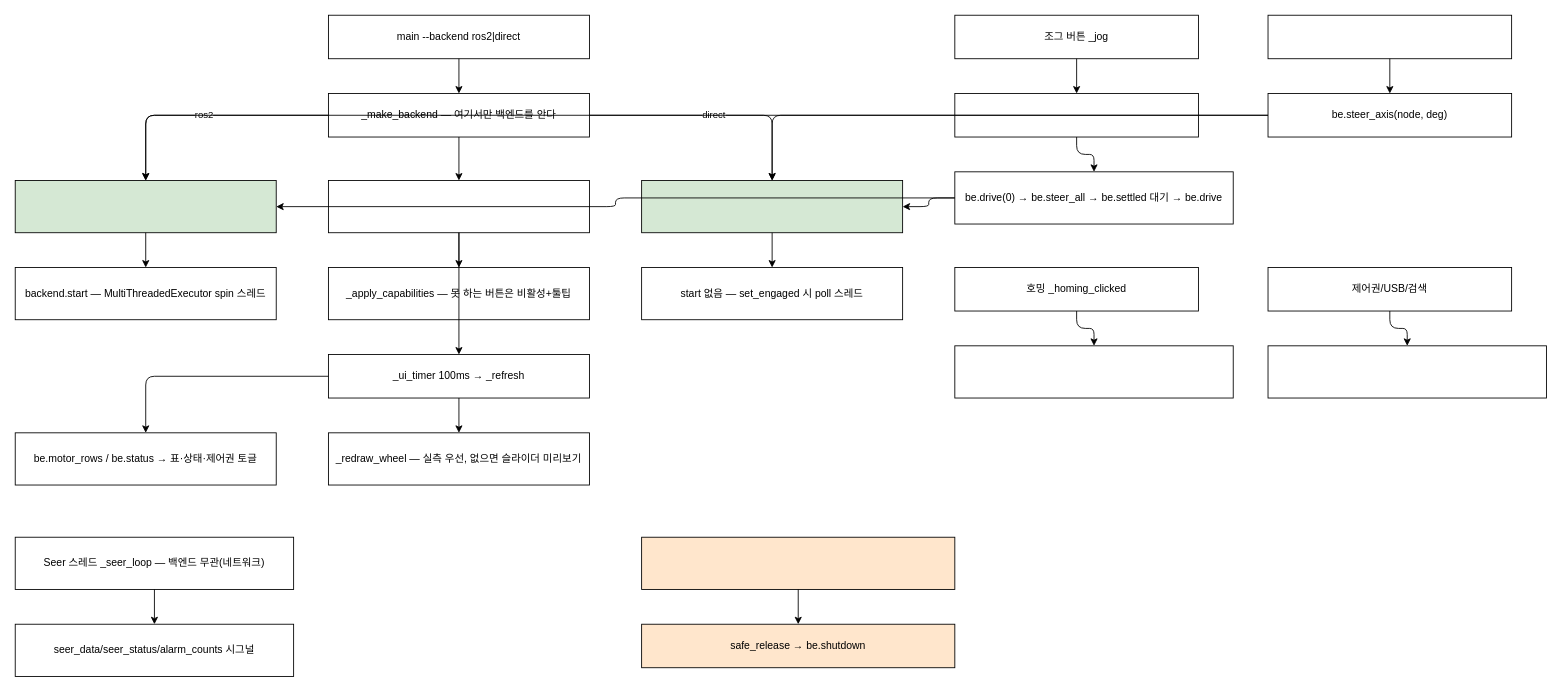
Some shapes in this 1562 by 692 pixel diagram are drawn without their labels. The centre of each missing label's shape, as x and y in pixels:
"_run_op → be.home (블로킹, 작업 스레드)" belongs at (1093,371).
"_run_op → be.set_engaged / set_usb / scan" belongs at (1406,371).
"DirectBackend (panda USB)" belongs at (772,206).
"jog 스레드 _jog_run" belongs at (1076,115).
"MainWindow(backend) — 위젯 트리는 원본과 동일" belongs at (458,206).
"Ros2Backend + RelayClient(rclpy Node)" belongs at (145,206).
"슬라이더 _send_steer" belongs at (1389,36).
"종료 4경로 — closeEvent·SIGINT/SIGTERM·exec_ 반환·atexit" belongs at (798,562).
